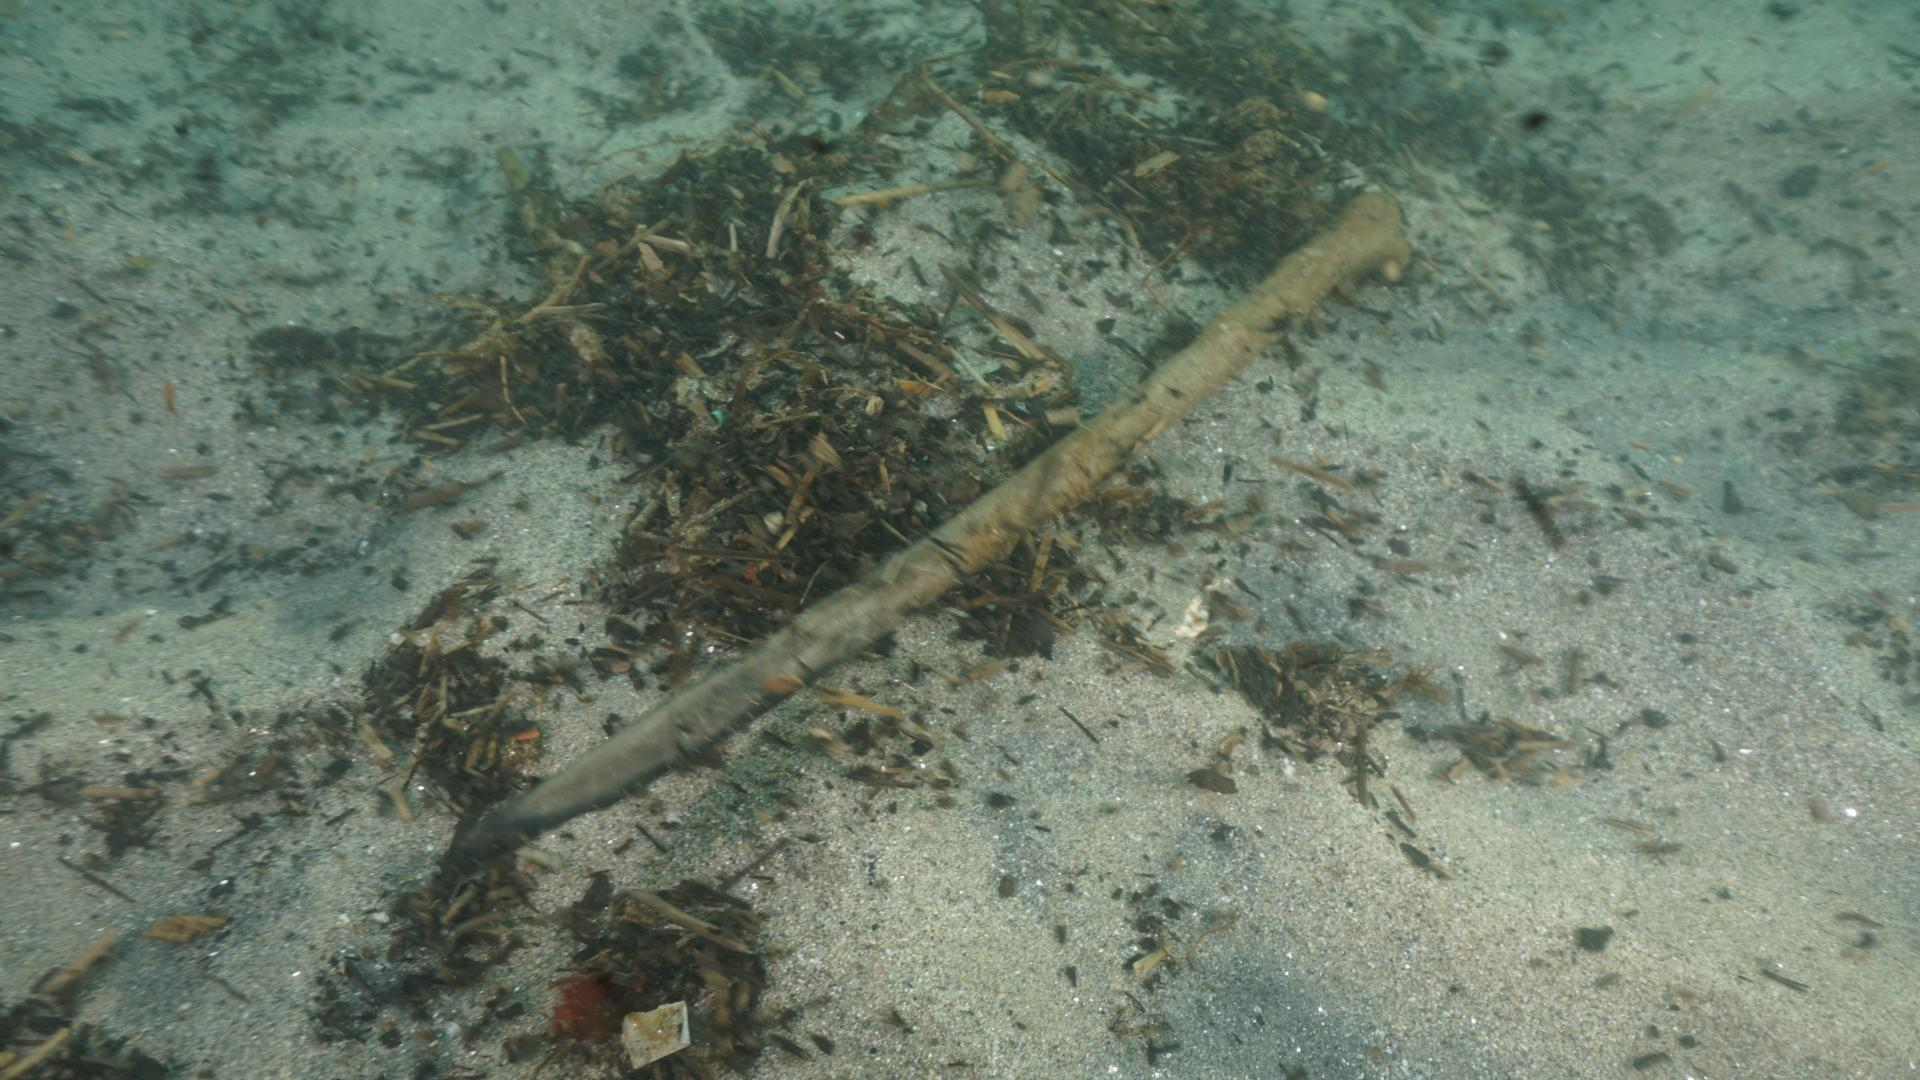wood: (455, 189, 1410, 849)
